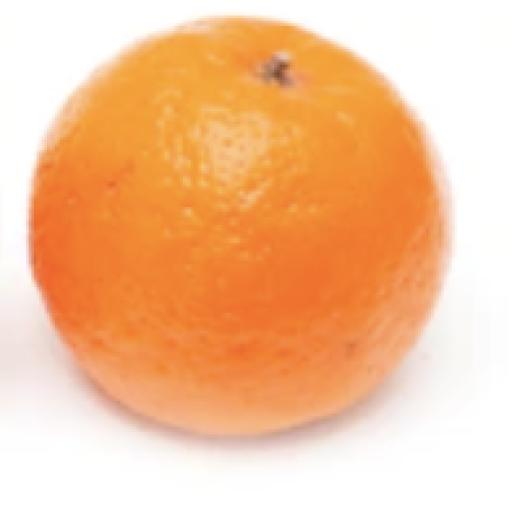orange: (32, 19, 449, 434)
